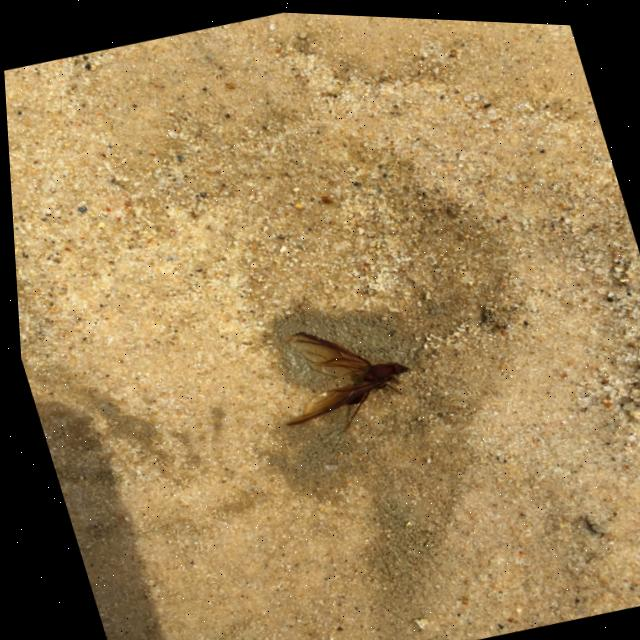Dead-Female-Alate: (255, 304, 421, 444)
